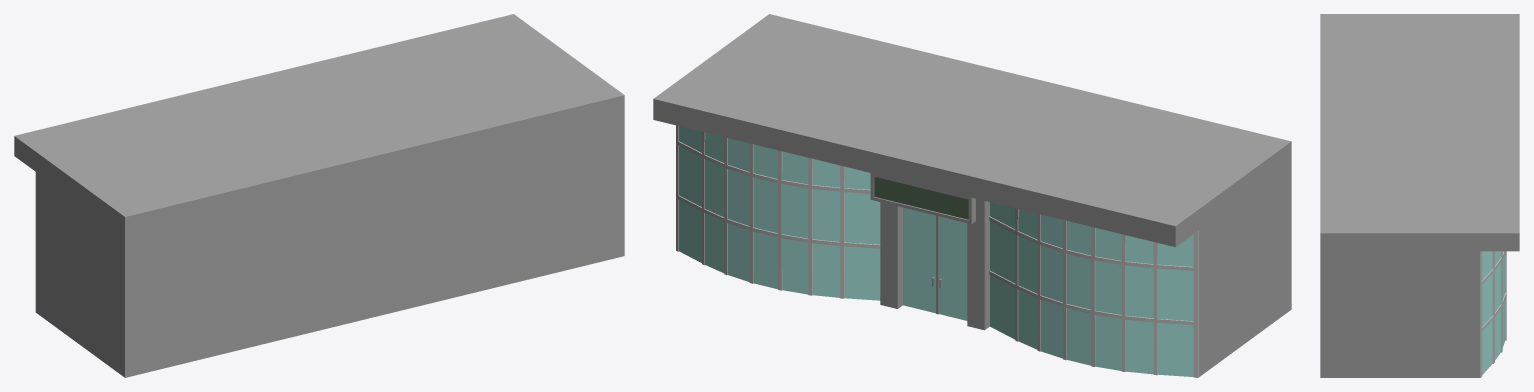
Rendered from Shop_B.fbx.
3 renders of one model, left to right at view 1: azimuth 30°, elevation 25°; view 2: azimuth 150°, elevation 25°; view 3: azimuth 270°, elevation 25°, orthographic. The views are drawn at different scales.
Parts seen in each view (by area): view 1: Shop_B; view 2: Shop_B; view 3: Shop_B.
Boxes of the visible parts, x1,y1,x2,y2 form: Shop_B: (14,14,624,377); Shop_B: (653,14,1291,377); Shop_B: (1320,14,1519,377).
Bounding box in the file's own units: 26 × 8 × 10.
